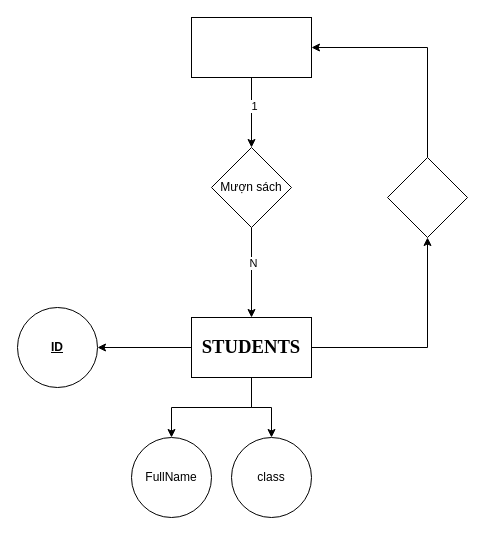
This 485x535 diagram has some shape labels left out. Each missing label, with the centre of its shape:
"Thư viện" goes at point (251, 47).
"Trả sách" goes at point (427, 197).
